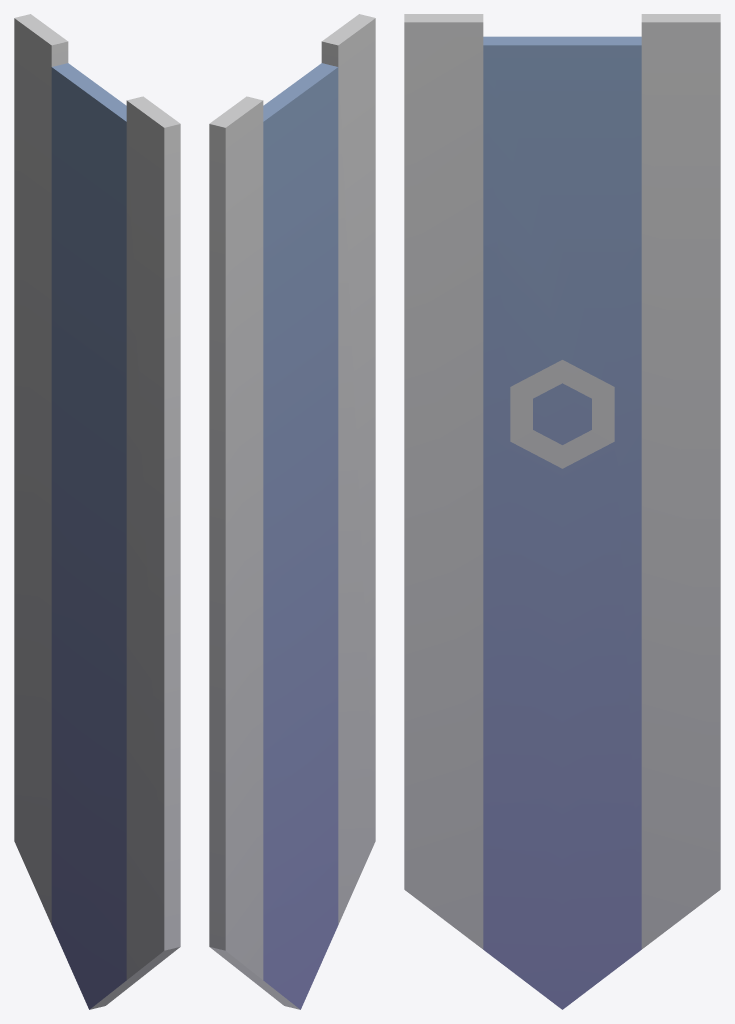
The model's file is flag-banner-long.glb.
3 renders of one model, left to right at view 1: azimuth 30°, elevation 25°; view 2: azimuth 150°, elevation 25°; view 3: azimuth 270°, elevation 25°, orthographic. The views are drawn at different scales.
Visible parts, largest first — view 1: flag-banner-long; view 2: flag-banner-long; view 3: flag-banner-long.
Boxes of the visible parts, box(x1,y1,x2,y2) form: flag-banner-long: box(14, 14, 180, 1009); flag-banner-long: box(209, 14, 375, 1009); flag-banner-long: box(404, 14, 720, 1009).
Bounding box in the file's own units: 0.04 × 2.17 × 0.63.
